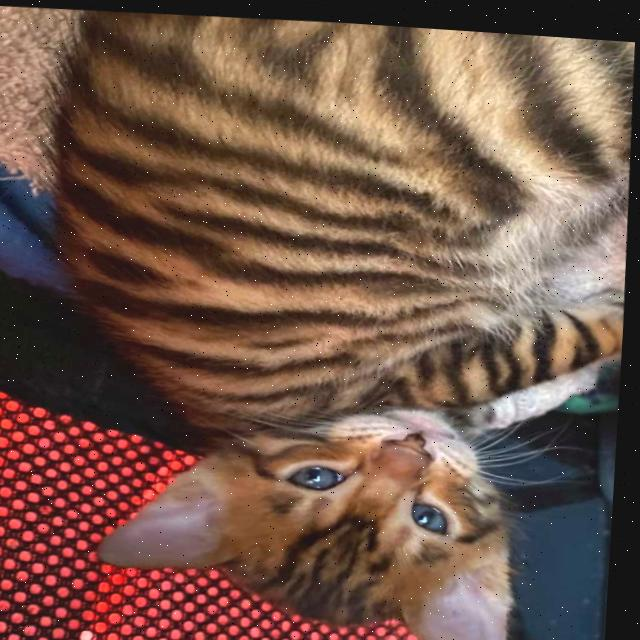Toyger: (20, 3, 640, 640)
